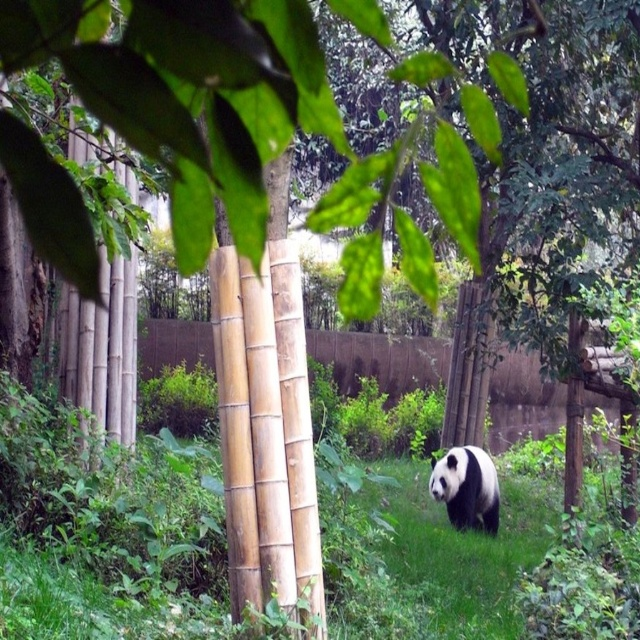Panda: (426, 445, 499, 536)
